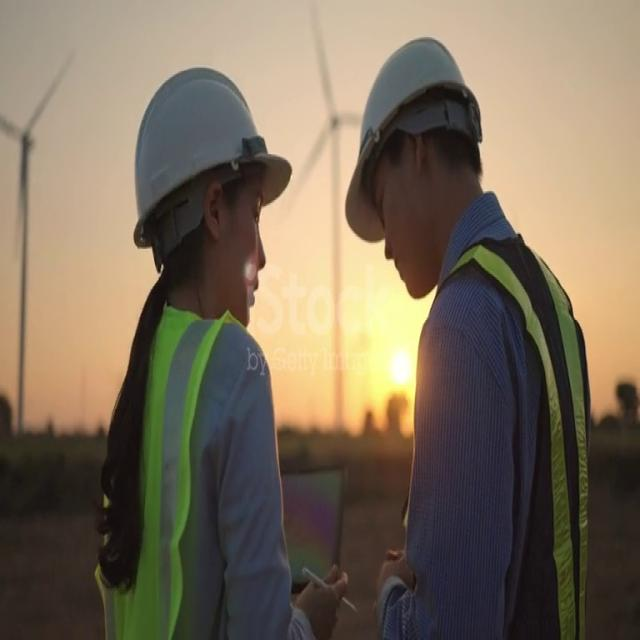capacete: (340, 32, 494, 252), (130, 51, 295, 230)
